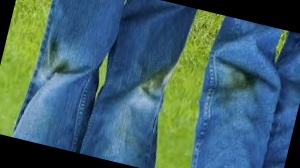earth: (41, 43, 67, 72), (142, 67, 168, 93), (232, 70, 258, 93)
